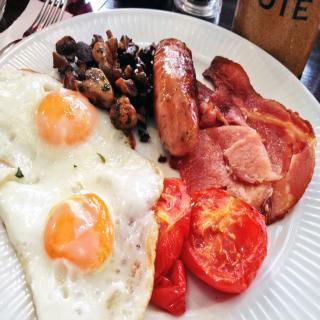tomato: (182, 192, 268, 288), (150, 178, 194, 280)
